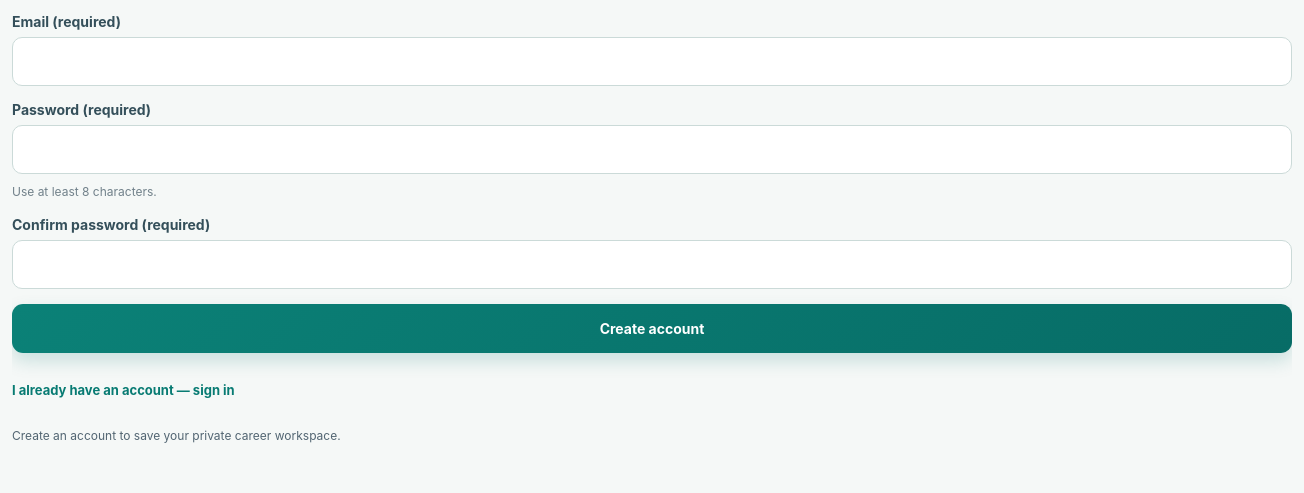
Test: Assessment interactions › requires matching passwords before sending a sign-up request
In the field labelled "Email (required)": (652, 62) [12, 37, 1292, 86], type "sample@example.invalid"
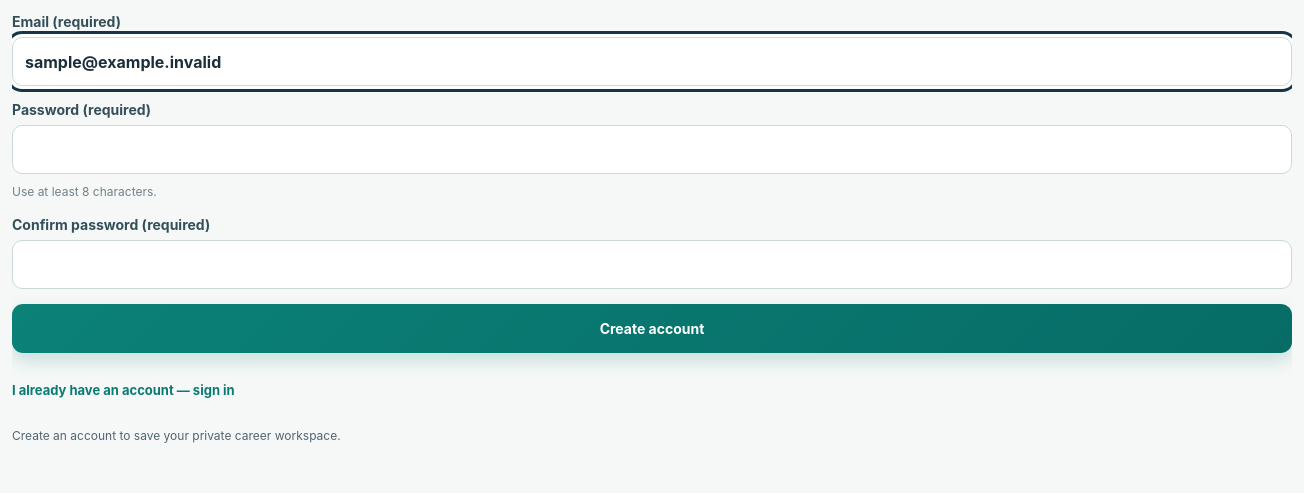
In the password field labelled "Password (required)": (652, 150) [12, 125, 1292, 174], type "sample-password"
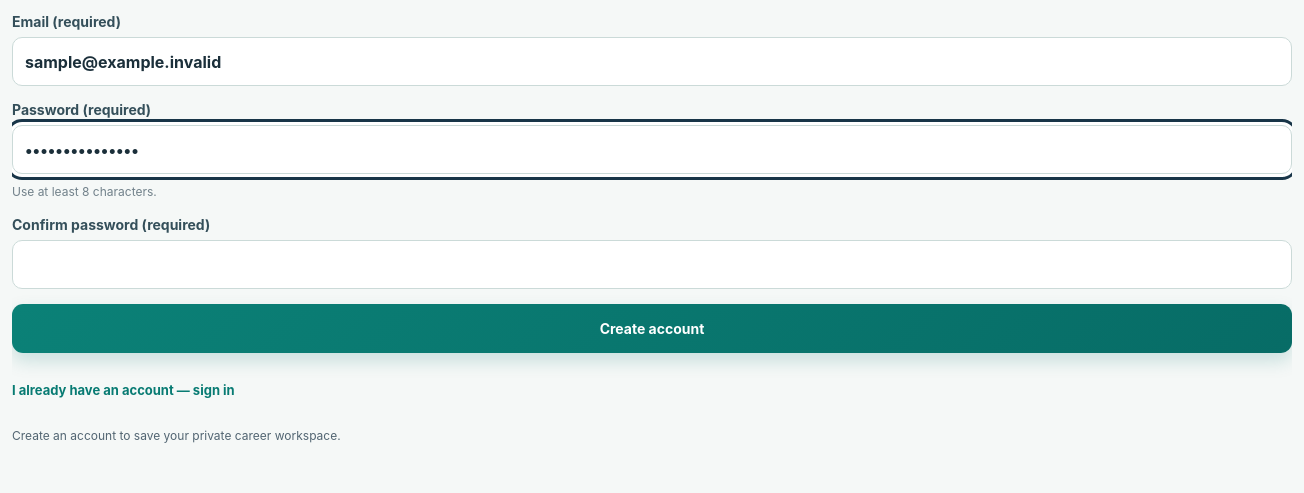
In the password field labelled "Confirm password (required)": (652, 265) [12, 240, 1292, 289], type "different-password"
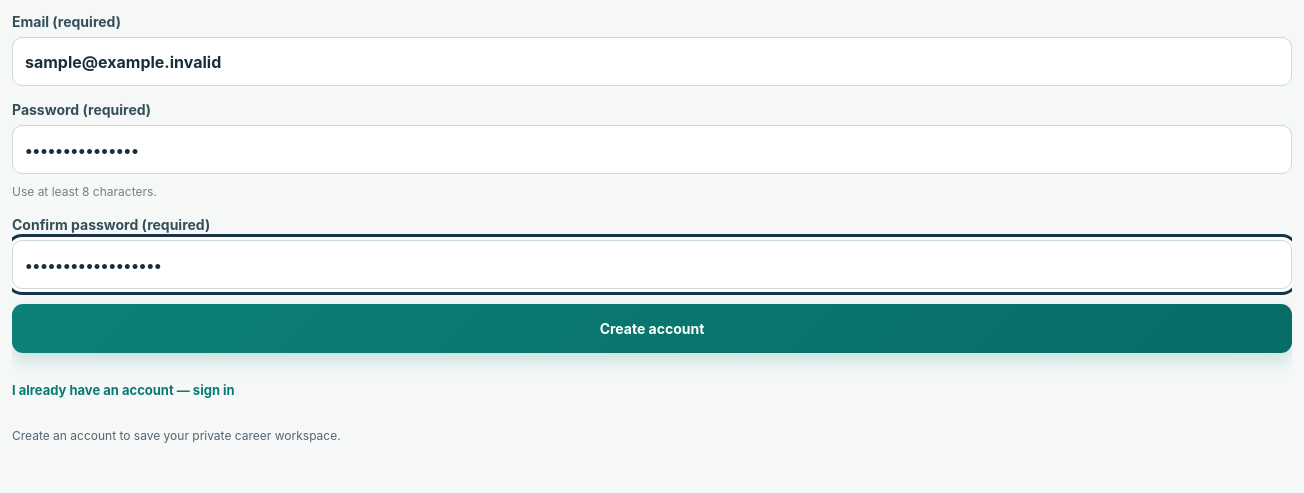
Click the button "Create account": (652, 329) [12, 304, 1292, 353]
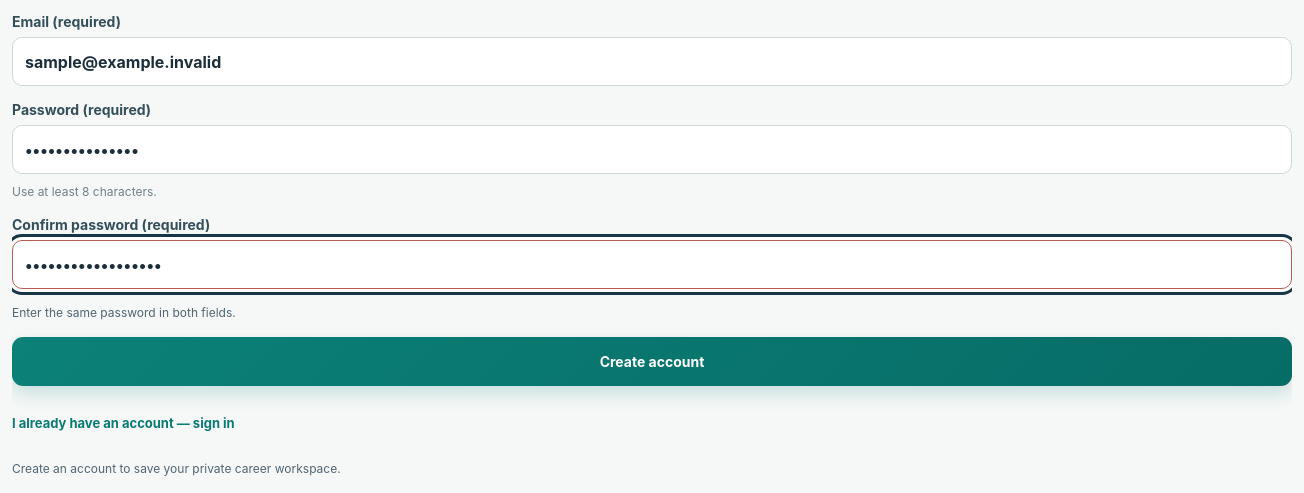
Now the text "Enter the same password in both fields." is shown, box [12, 305, 236, 320]
